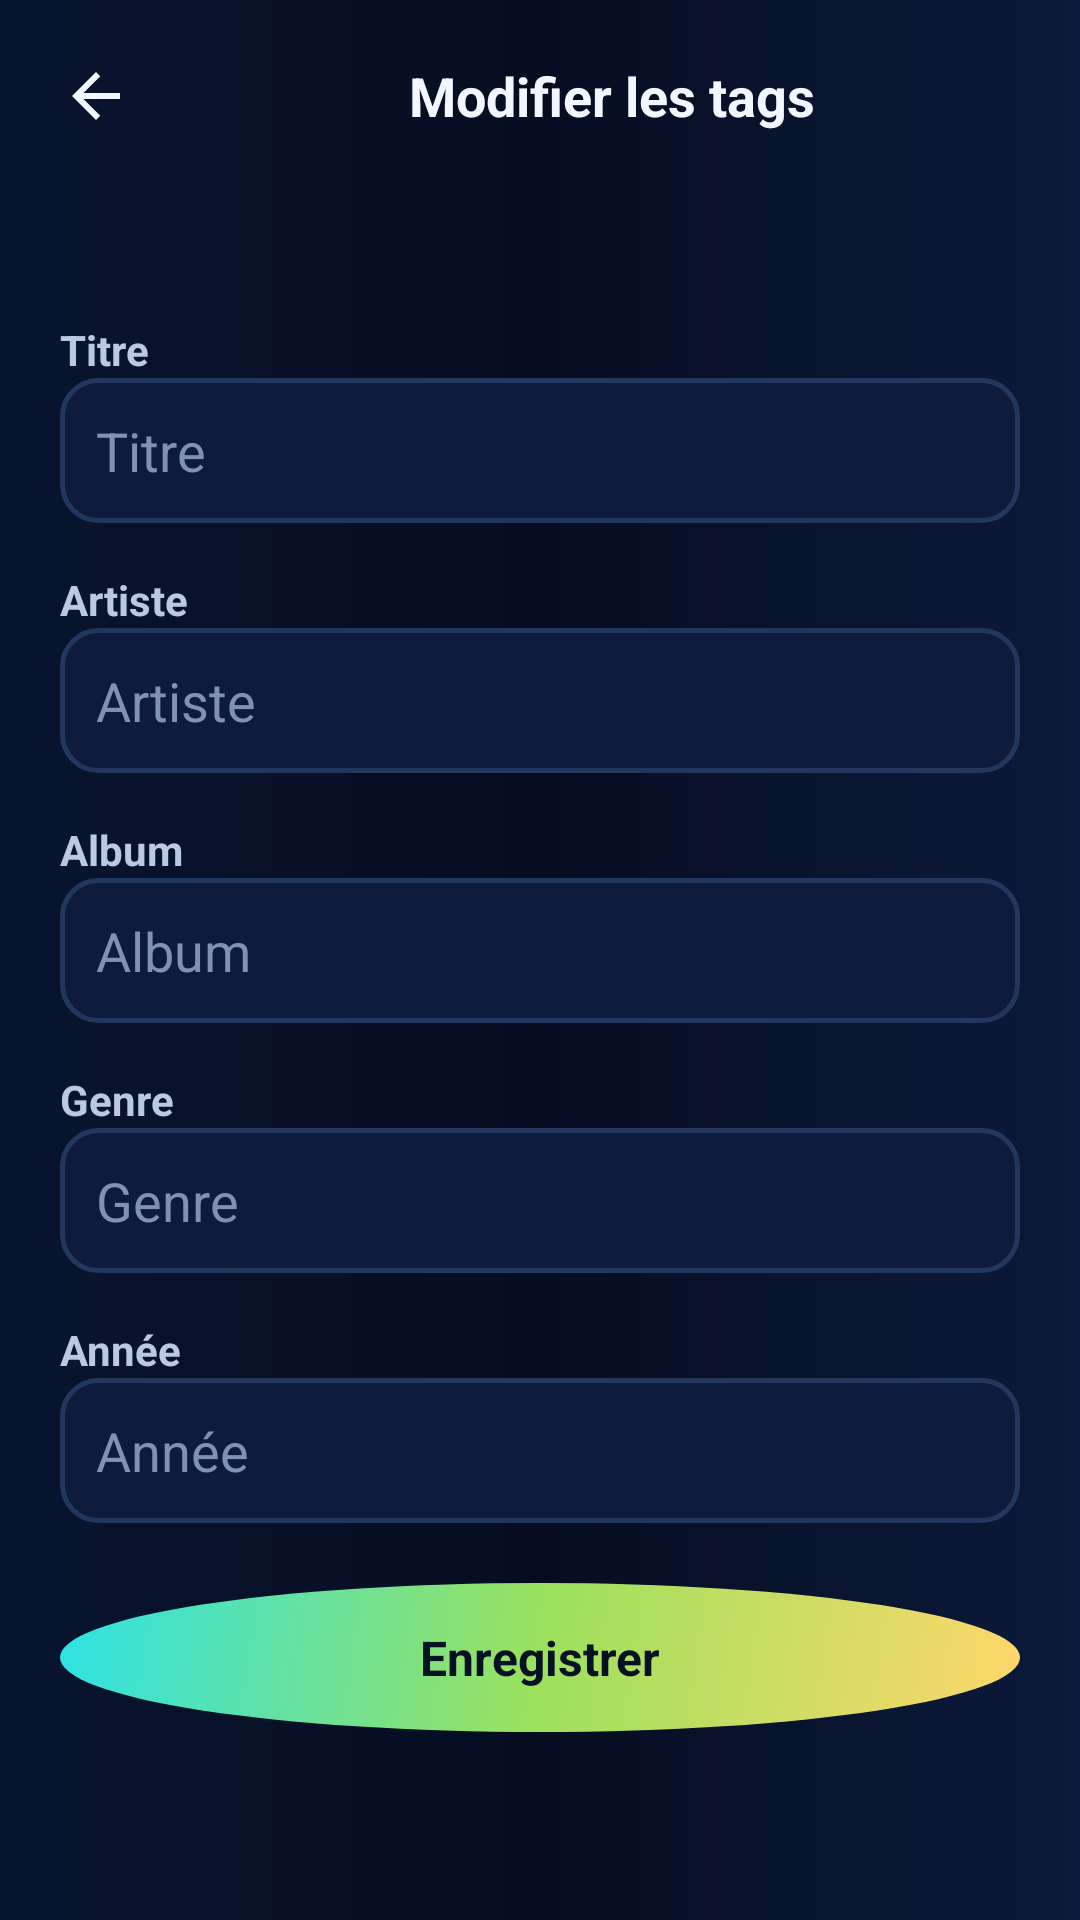

Named icons in this screenshot (1080 × 1920) and their bounding boxes, [x1,y1,x2,y2]:
Retour: [72,72,120,120]
